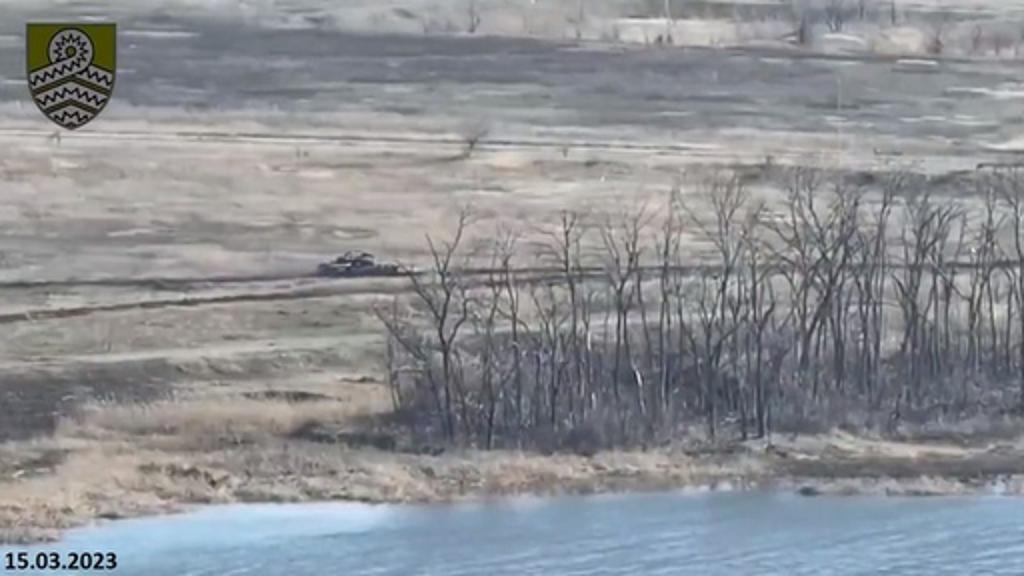TANK: (310, 242, 402, 280)
